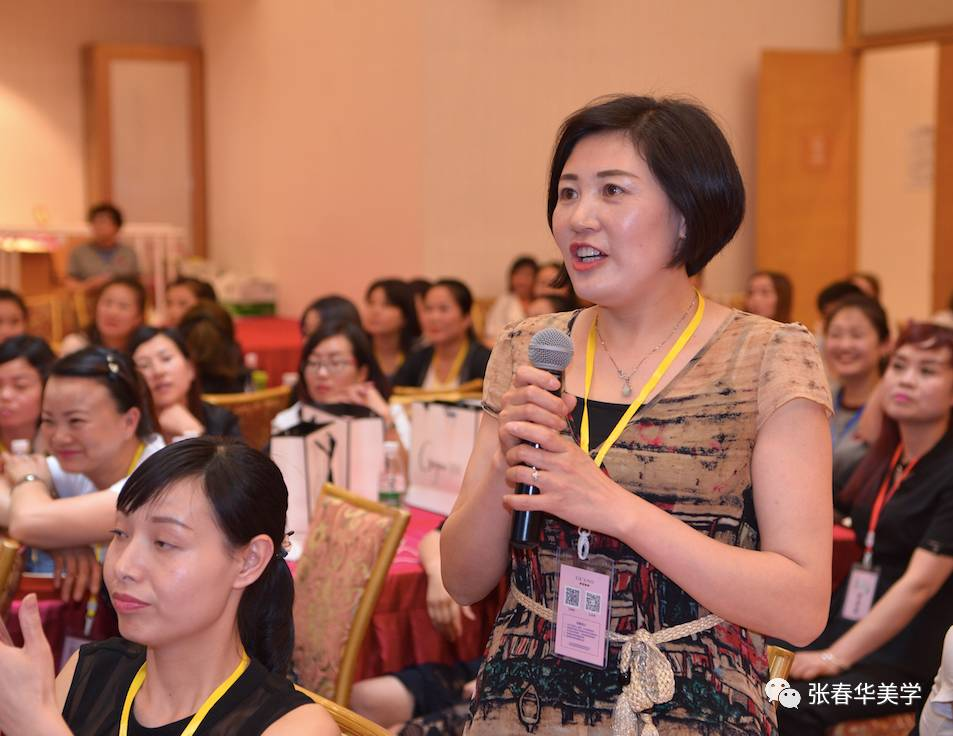handsup: (434, 86, 857, 724)
